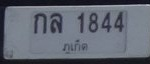txt01: (33, 12, 47, 34)
txt31: (49, 12, 63, 35)
